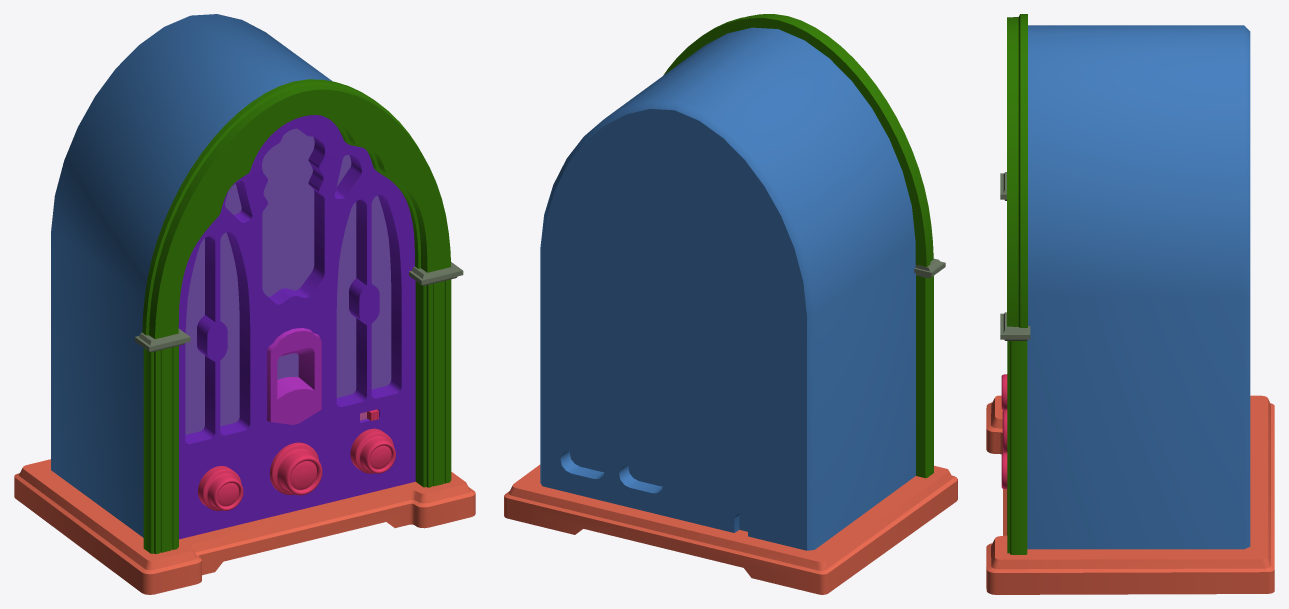
The model's file is Cathedral_Radio.fbx.
3 views of the same model, side by side, from view 1: azimuth 30°, elevation 25°; view 2: azimuth 150°, elevation 25°; view 3: azimuth 270°, elevation 25° (orthographic). The views are drawn at different scales.
Visible parts, largest first — view 1: Cathedral_Radio; view 2: Cathedral_Radio; view 3: Cathedral_Radio.
Part boxes in pixels (<box>): Cathedral_Radio: <box>14,14,475,594</box>; Cathedral_Radio: <box>504,14,957,594</box>; Cathedral_Radio: <box>986,14,1274,594</box>.
Size of the model in its own units: 119 by 158 by 84.96.
